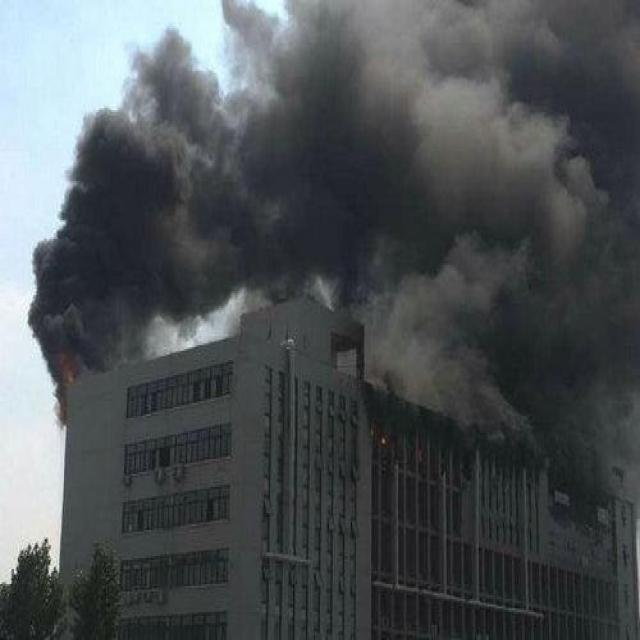Smoke: (252, 0, 640, 526), (29, 49, 251, 386)
